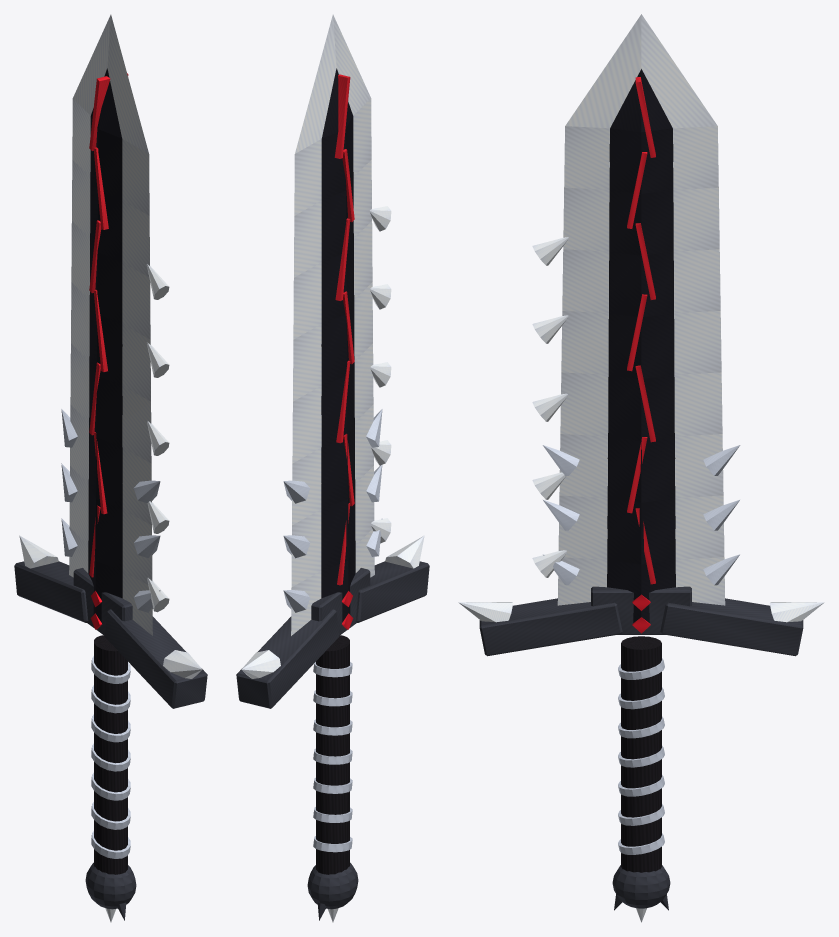
File: EmeraldTomb.fbx
3 views of the same model, side by side, from view 1: azimuth 30°, elevation 25°; view 2: azimuth 150°, elevation 25°; view 3: azimuth 270°, elevation 25° (orthographic).
Visible parts, largest first — view 1: EmeraldTomb; view 2: EmeraldTomb; view 3: EmeraldTomb.
Boxes of the visible parts, <box> form: EmeraldTomb: <box>14,14,207,922</box>; EmeraldTomb: <box>236,14,429,922</box>; EmeraldTomb: <box>458,14,824,922</box>.
Bounding box in the file's own units: 44.01 × 932 × 341.
1 material, 1 textured.
